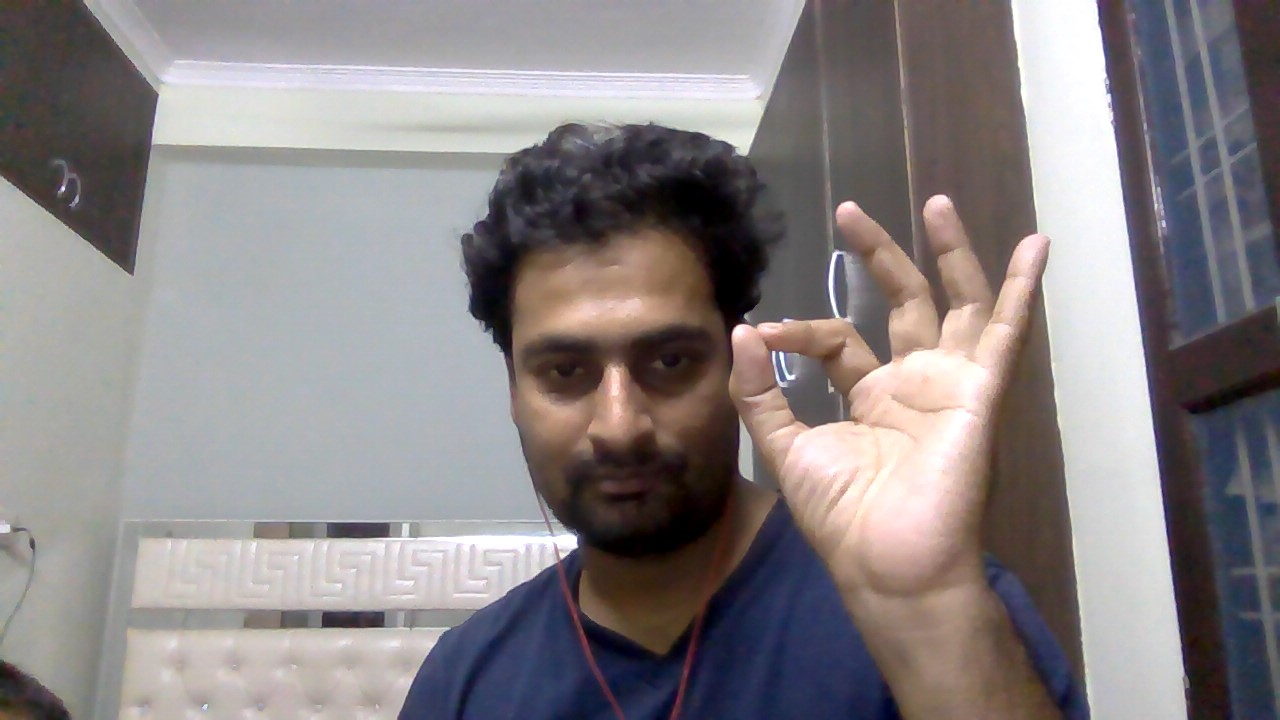Copy: (717, 186, 1081, 601)
